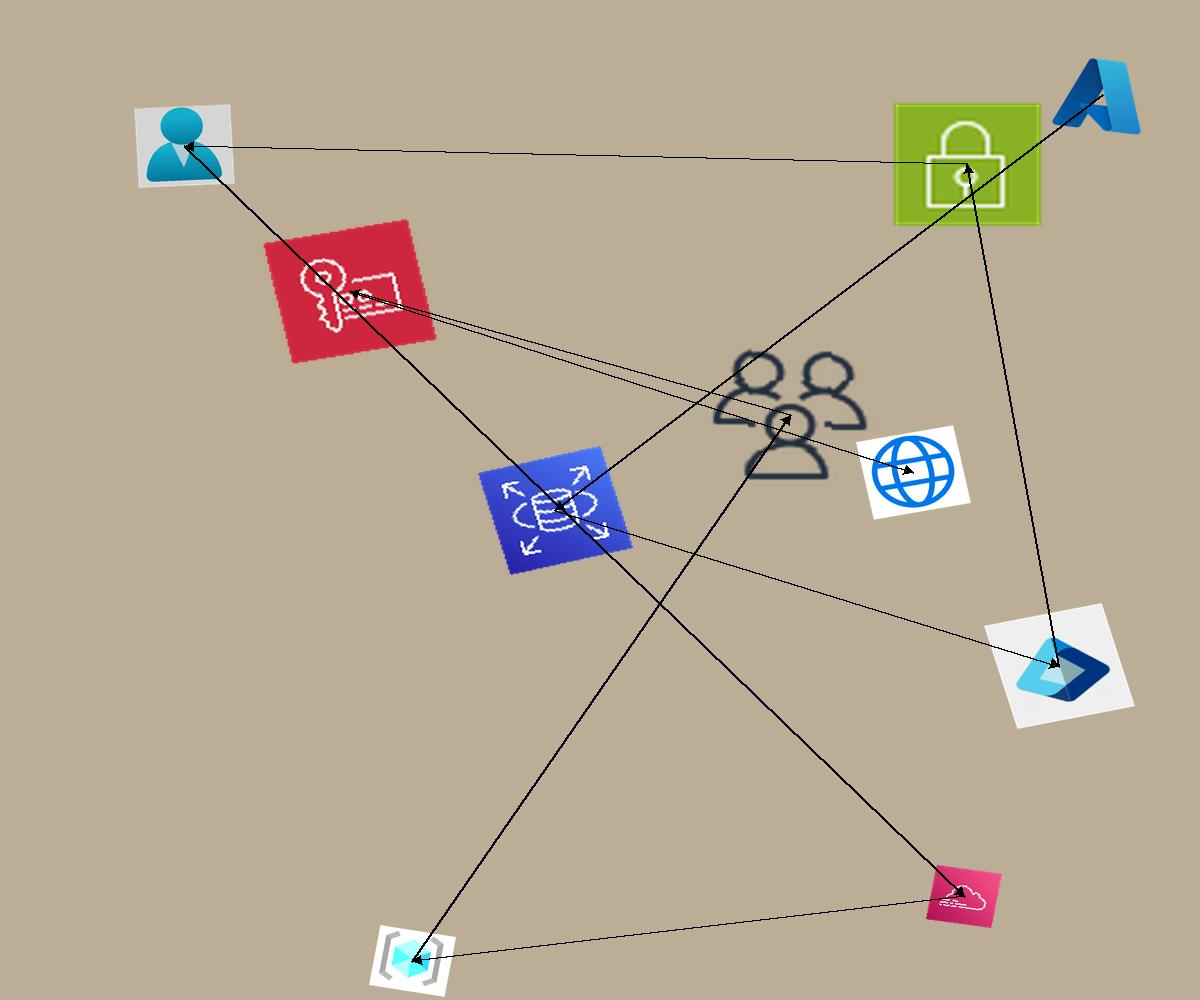AWS-CloudTrail: (926, 865, 1002, 928)
AWS-Key-Management-Service: (262, 218, 438, 365)
AWS-Public-subnet: (890, 100, 1045, 229)
AWS-RDS: (478, 446, 633, 575)
AWS-Res_Users: (703, 343, 877, 488)
Azure_http: (856, 425, 971, 520)
Azure_microsoft_entra: (984, 603, 1135, 729)
Azure_resource_group: (369, 925, 456, 997)
Azure_services: (1047, 49, 1157, 141)
Azure_users: (134, 104, 235, 188)
